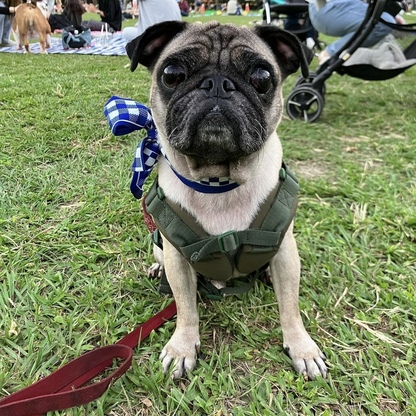Pug: (118, 16, 335, 385)
